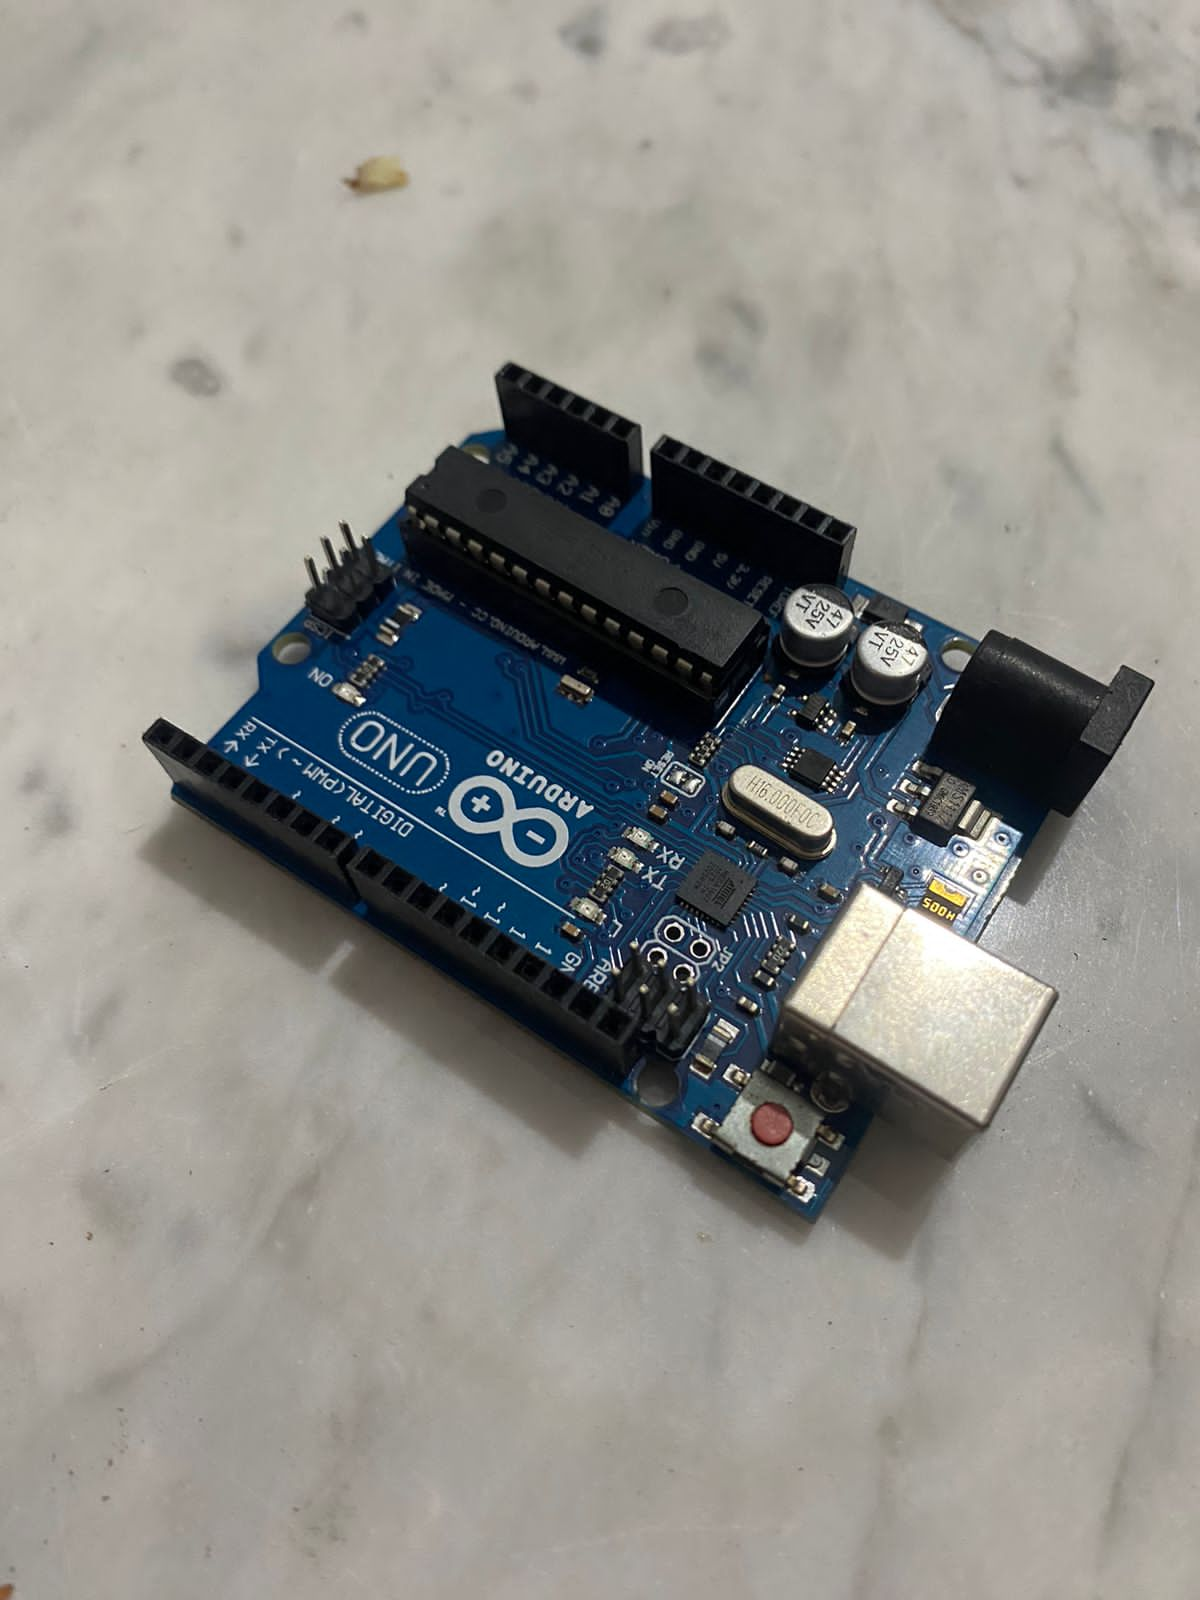arduino-uno: (136, 353, 1157, 1250)
